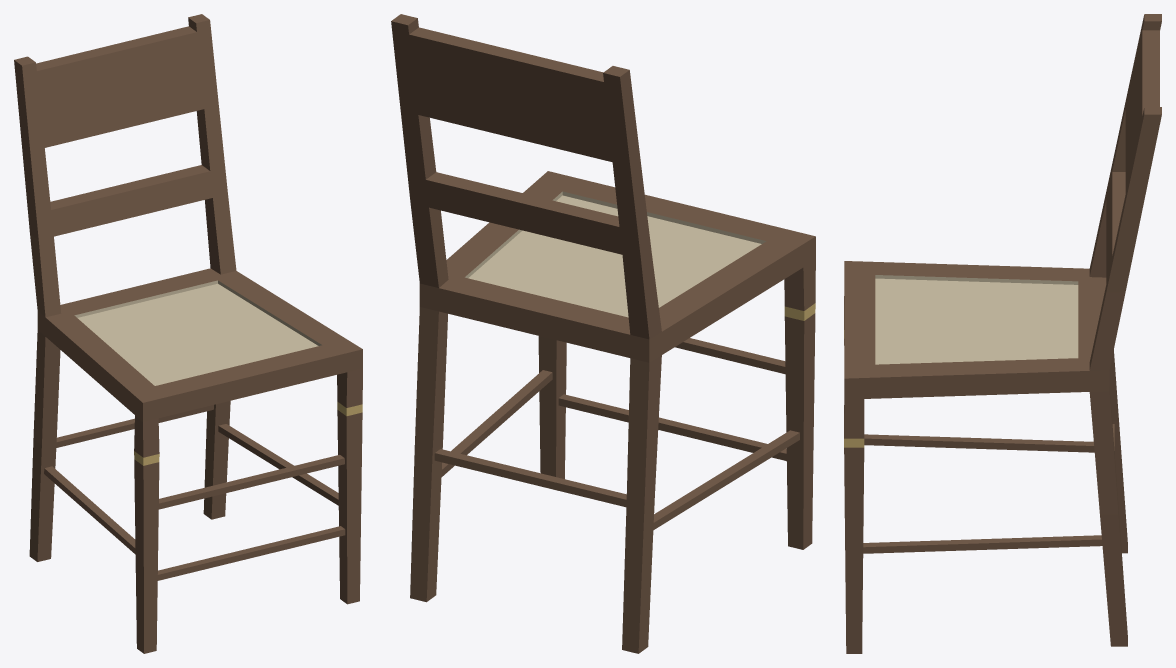
Rendered from sillacomedor.fbx.
3 views of the same model, side by side, from view 1: azimuth 30°, elevation 25°; view 2: azimuth 150°, elevation 25°; view 3: azimuth 270°, elevation 25° (orthographic). The views are drawn at different scales.
Parts seen in each view (by area): view 1: silla_comedor; view 2: silla_comedor; view 3: silla_comedor.
Boxes of the visible parts, box(x1,y1,x2,y2) form: silla_comedor: box(14, 14, 362, 653); silla_comedor: box(391, 14, 815, 653); silla_comedor: box(844, 14, 1161, 653).
Bounding box in the file's own units: 42 × 88.5 × 47.94.
